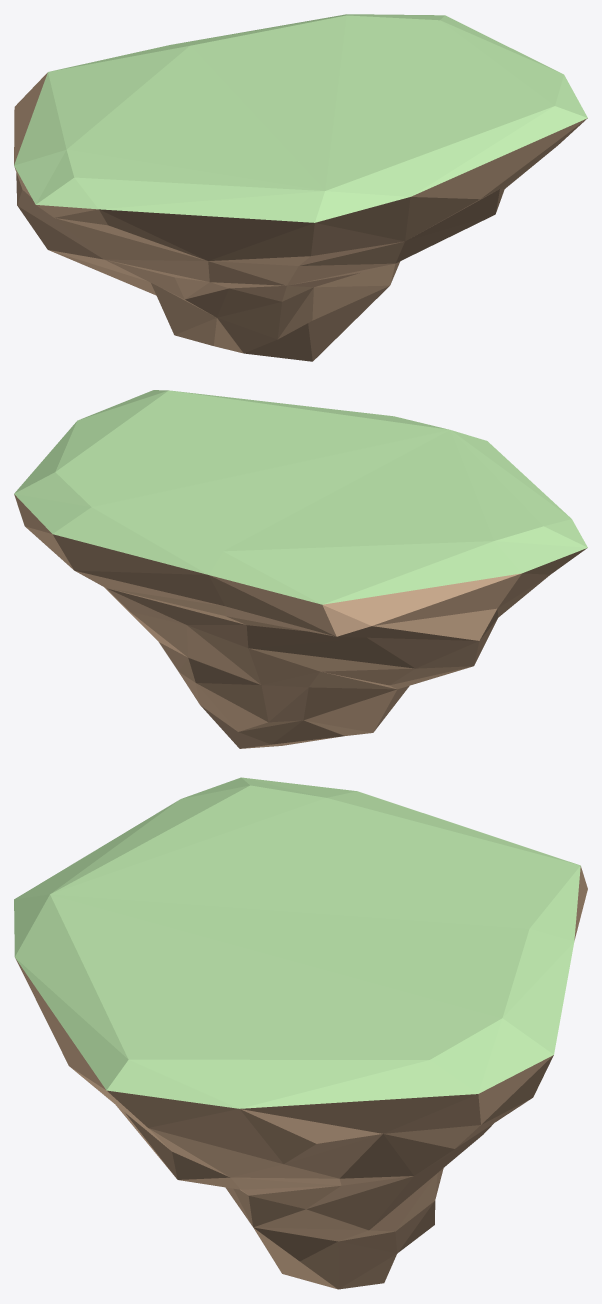
File: island6_Green.fbx
3 views of the same model, one above another, from view 1: azimuth 30°, elevation 25°; view 2: azimuth 150°, elevation 25°; view 3: azimuth 270°, elevation 25° (orthographic). The views are drawn at different scales.
Parts seen in each view (by area): view 1: island6; view 2: island6; view 3: island6.
Boxes of the visible parts, x1,y1,x2,y2 form: island6: (14, 14, 587, 361); island6: (14, 390, 587, 748); island6: (14, 777, 587, 1289).
Bounding box in the file's own units: 52.04 × 24.71 × 37.8.
